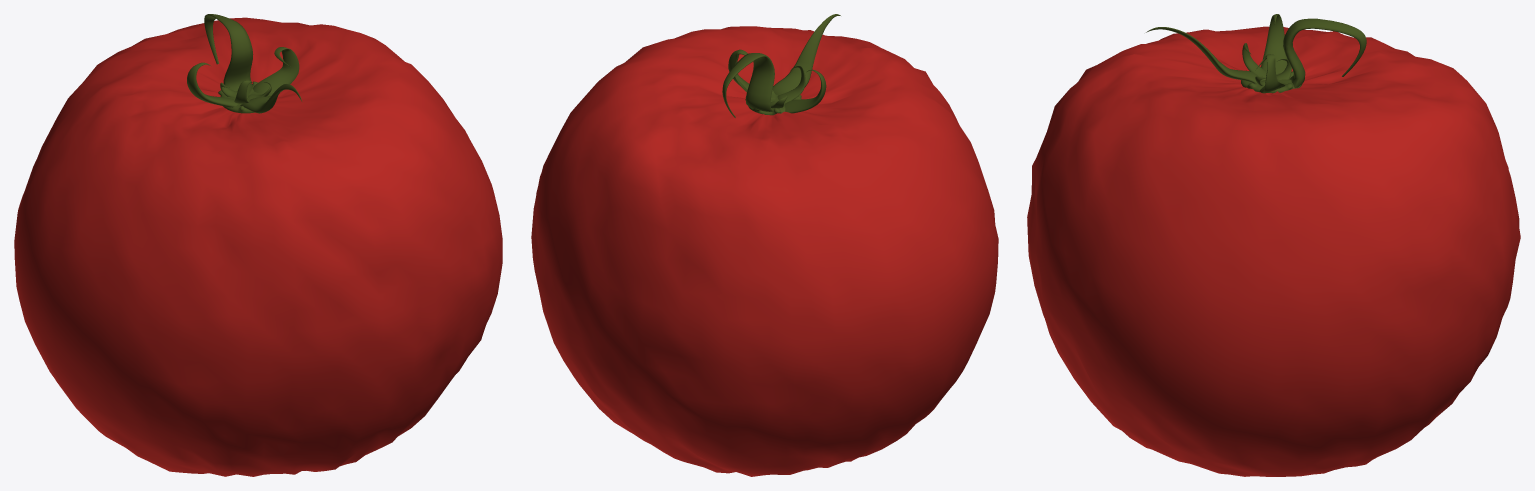
File: tomato.fbx
3 renders of one model, left to right at view 1: azimuth 30°, elevation 25°; view 2: azimuth 150°, elevation 25°; view 3: azimuth 270°, elevation 25°, orthographic. The views are drawn at different scales.
Visible parts, largest first — view 1: polySurface30; view 2: polySurface30; view 3: polySurface30.
Part boxes in pixels (bbox=[...]): polySurface30: bbox=[14, 14, 502, 476]; polySurface30: bbox=[531, 14, 998, 476]; polySurface30: bbox=[1027, 14, 1520, 476].
Bounding box in the file's own units: 11.02 × 10.25 × 10.95.
